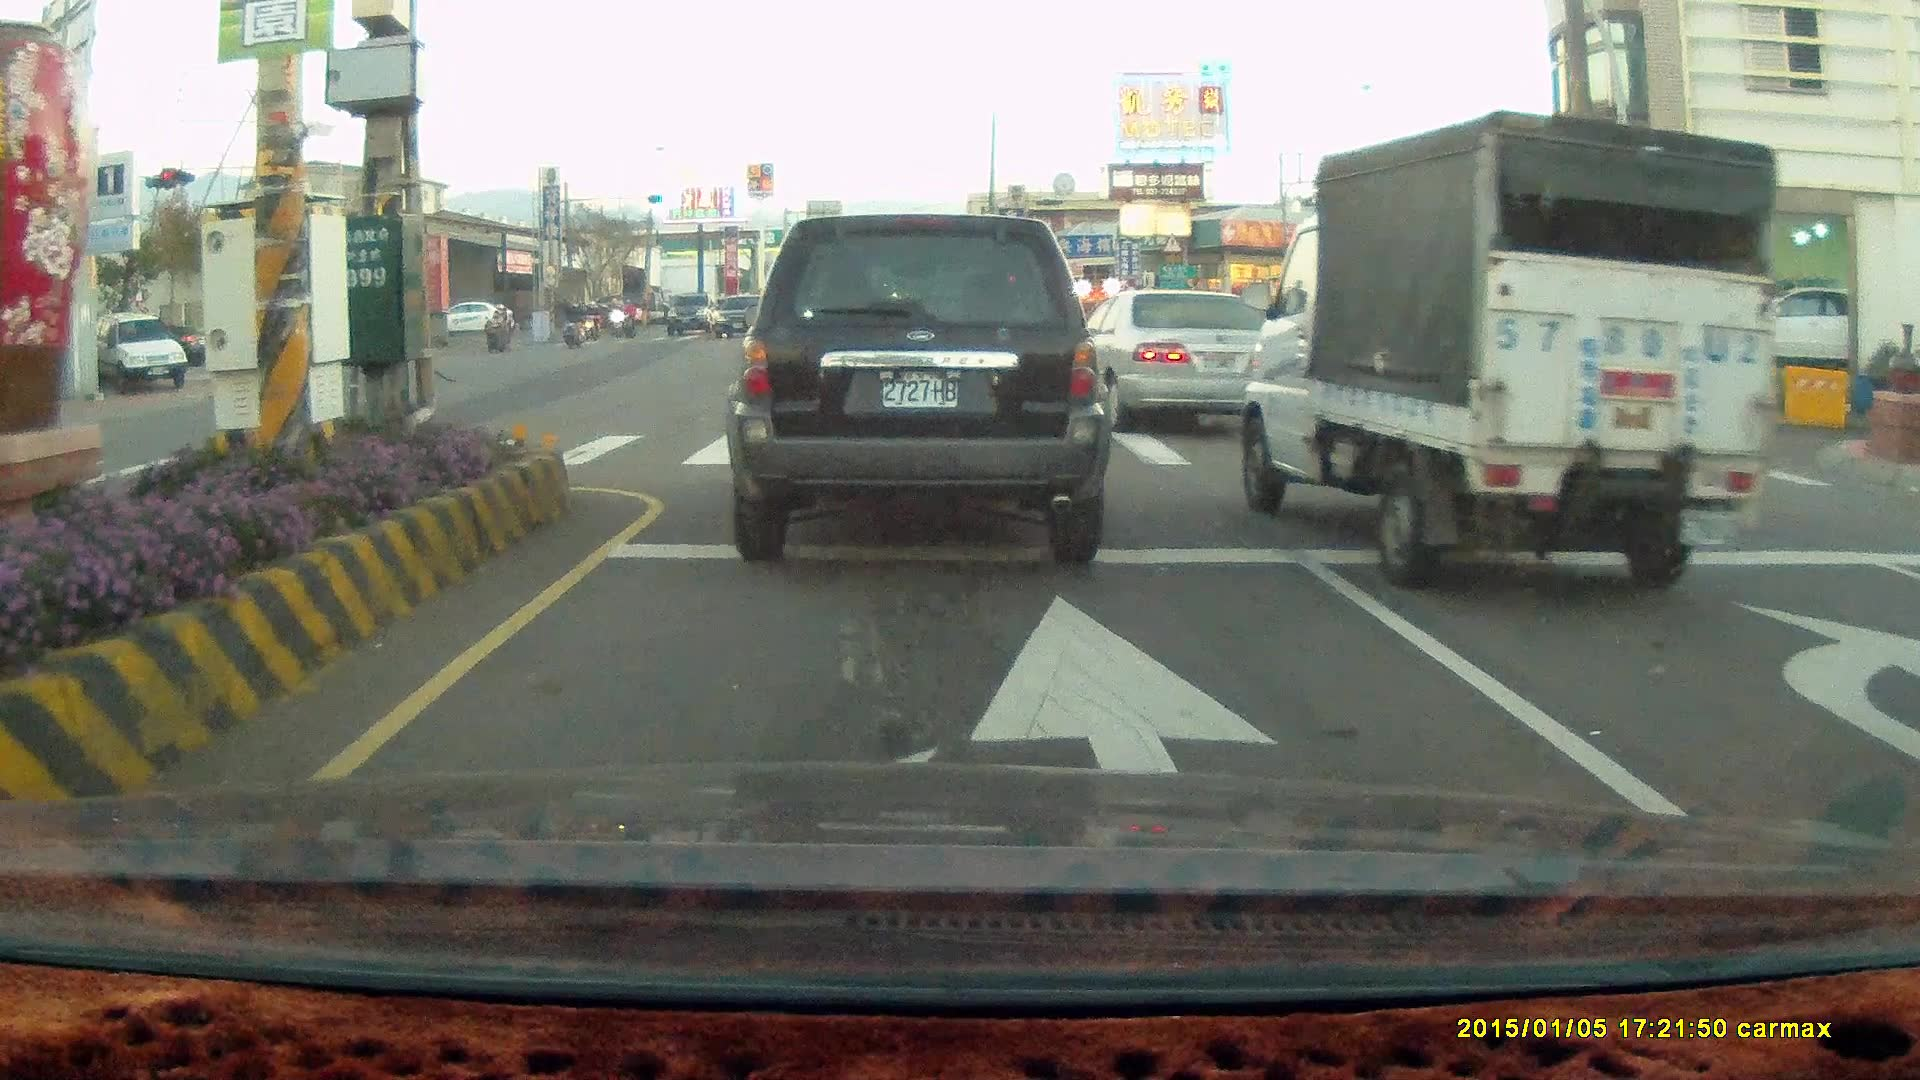rider: (482, 299, 517, 349), (558, 296, 586, 349), (575, 295, 598, 338), (619, 296, 640, 339)
vehicle: (1238, 106, 1777, 588), (721, 210, 1114, 565), (1067, 283, 1299, 431), (1079, 286, 1292, 440), (1691, 283, 1907, 379), (1707, 286, 1864, 373), (82, 313, 190, 390), (447, 301, 516, 339)
